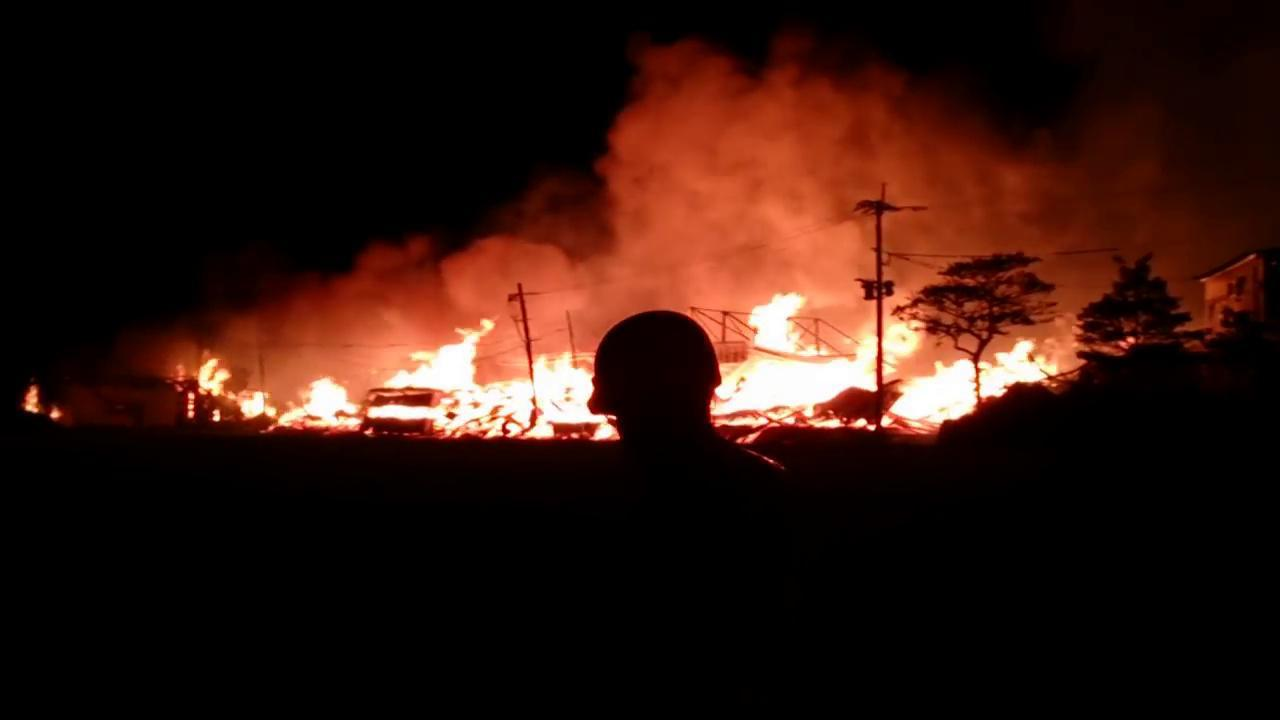Fire: (139, 36, 1263, 390), (717, 291, 1065, 425), (279, 317, 592, 439), (194, 358, 233, 395), (26, 387, 64, 419), (244, 393, 277, 418), (594, 421, 616, 440)
